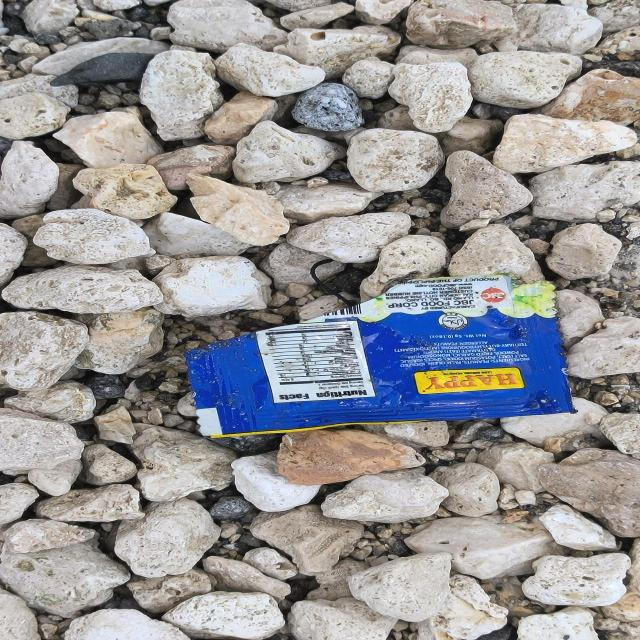plastic_waste: (182, 274, 576, 439)
